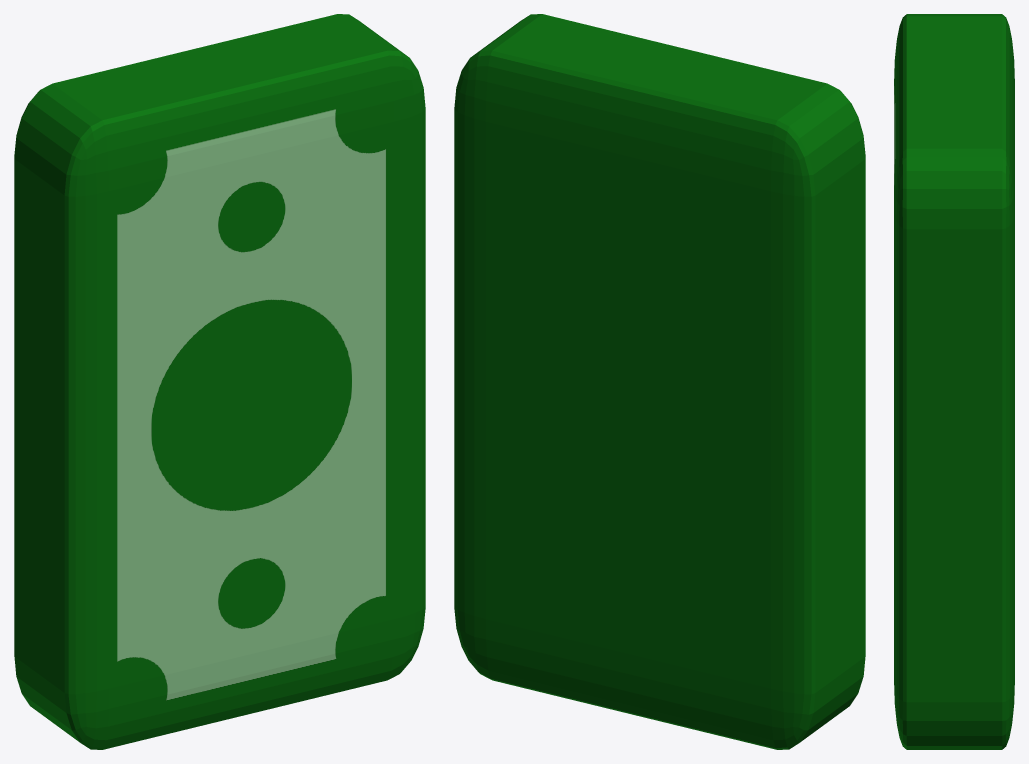
Rendered from MoneyModel.fbx.
The picture shows the model from 3 angles, left to right: view 1: azimuth 30°, elevation 25°; view 2: azimuth 150°, elevation 25°; view 3: azimuth 270°, elevation 25°; orthographic projection. The views are drawn at different scales.
Parts seen in each view (by area): view 1: Cube; view 2: Cube; view 3: Cube.
Part boxes in pixels (x1,y1,x2,y2): Cube: (14, 14, 425, 749); Cube: (454, 14, 865, 749); Cube: (894, 14, 1014, 749).
Size of the model in its own units: 0.8052 by 1.34 by 0.2452.
Materials: 1 (1 with a texture image).
